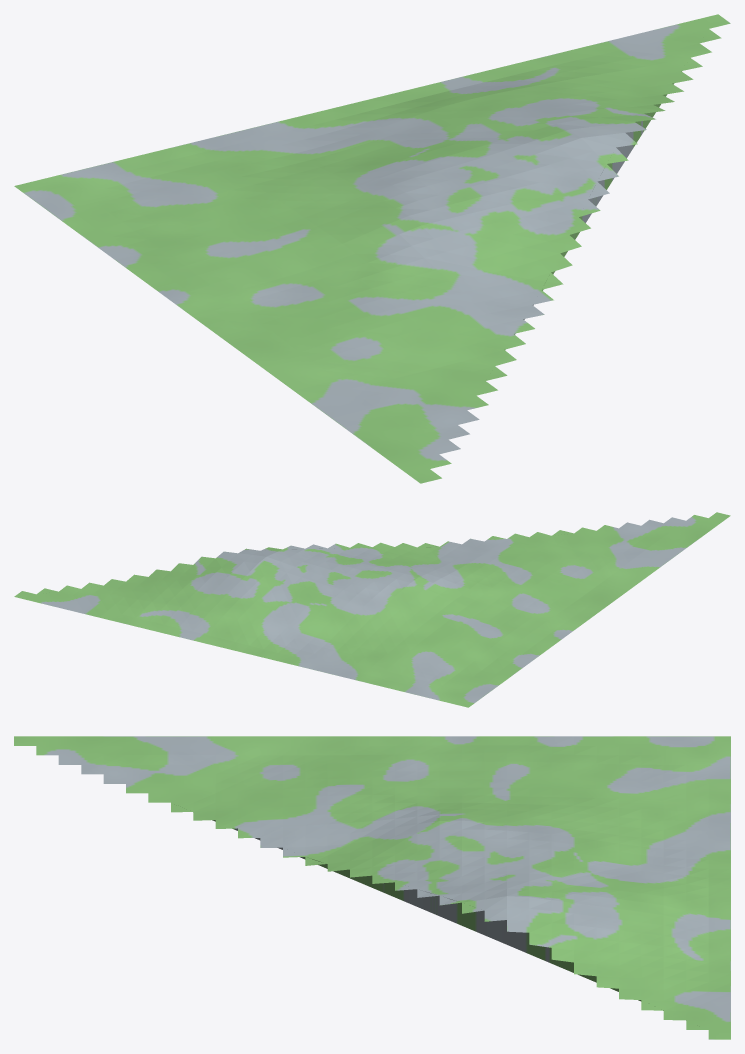
File: Grass_RockyGround_05_SW.obj
The picture shows the model from 3 angles, top to bottom: view 1: azimuth 30°, elevation 25°; view 2: azimuth 150°, elevation 25°; view 3: azimuth 270°, elevation 25°; orthographic projection. The views are drawn at different scales.
Size of the model in its own units: 10 by 0.4577 by 10.
Materials: 1 (1 with a texture image).
